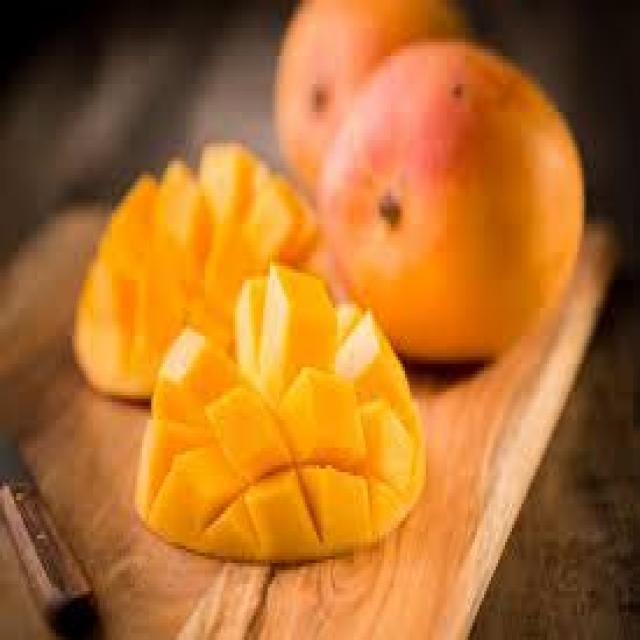mango: (135, 262, 426, 567)
